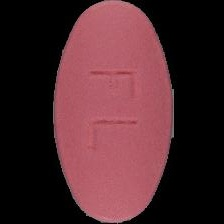54868-6024: (0, 0, 224, 224)
